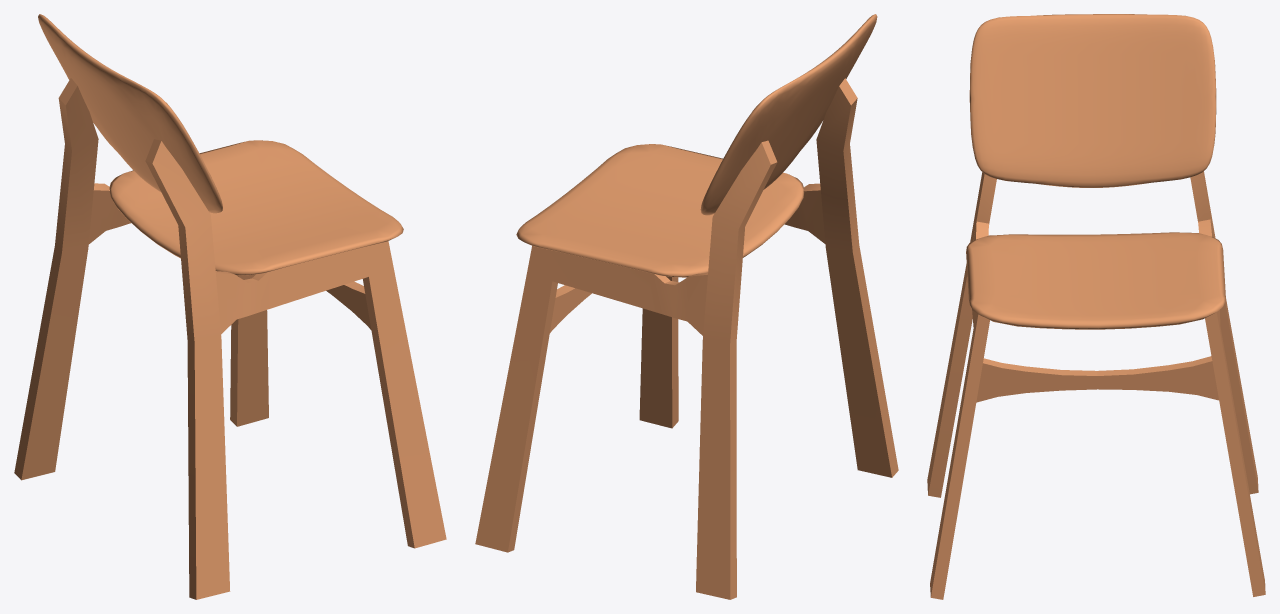
File: yizi.fbx
3 renders of one model, left to right at view 1: azimuth 30°, elevation 25°; view 2: azimuth 150°, elevation 25°; view 3: azimuth 270°, elevation 25°, orthographic. The views are drawn at different scales.
Visible parts, largest first — view 1: 椅子; view 2: 椅子; view 3: 椅子.
Part boxes in pixels (x1=…): 椅子: x1=14, y1=14, x2=446, y2=599; 椅子: x1=475, y1=14, x2=898, y2=599; 椅子: x1=927, y1=14, x2=1265, y2=599.
Size of the model in its own units: 7.34 by 12.56 by 8.32.
